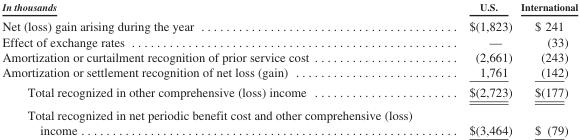table: (1, 0, 577, 136)
table column: (1, 0, 440, 136), (440, 0, 515, 136), (515, 0, 577, 136)
table column header: (1, 0, 577, 15)
table row: (1, 103, 577, 136), (1, 81, 577, 103), (1, 15, 577, 33), (1, 63, 577, 81), (1, 0, 577, 15), (1, 33, 577, 48), (1, 48, 577, 63)
